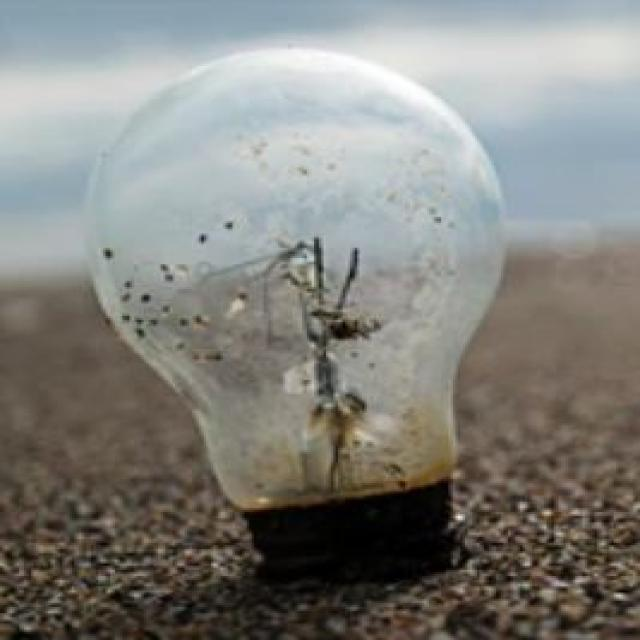electronic: (79, 41, 508, 572)
